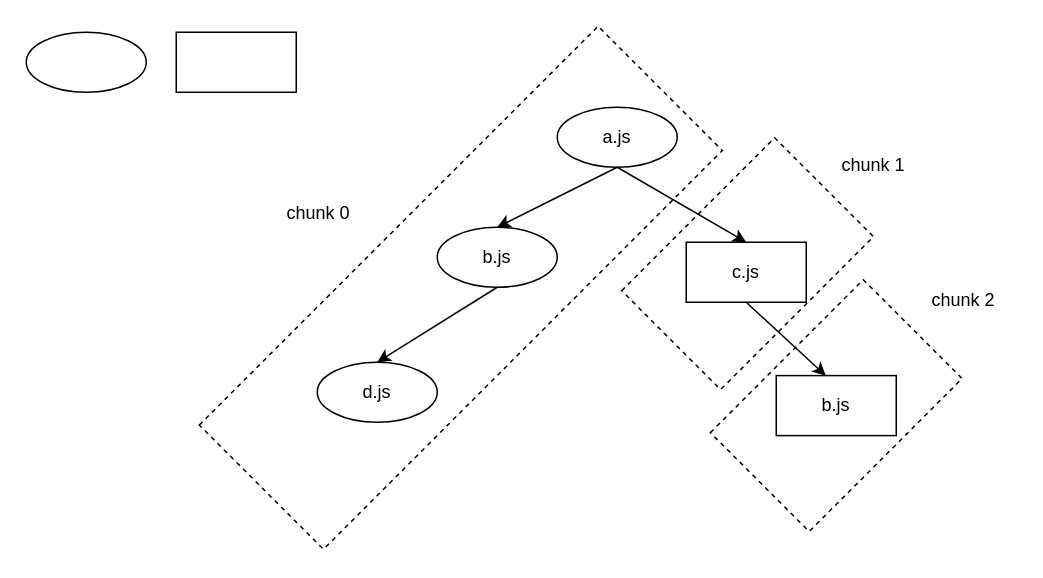
Some shapes in this 1043 by 578 pixel diagram are drawn without their labels. The shapes that lost their labels are listed below. From the top down, each one's box as (x1, y1, x2, y2) in pixels, then its label:
(25, 31, 146, 92): module
(175, 31, 296, 92): block
